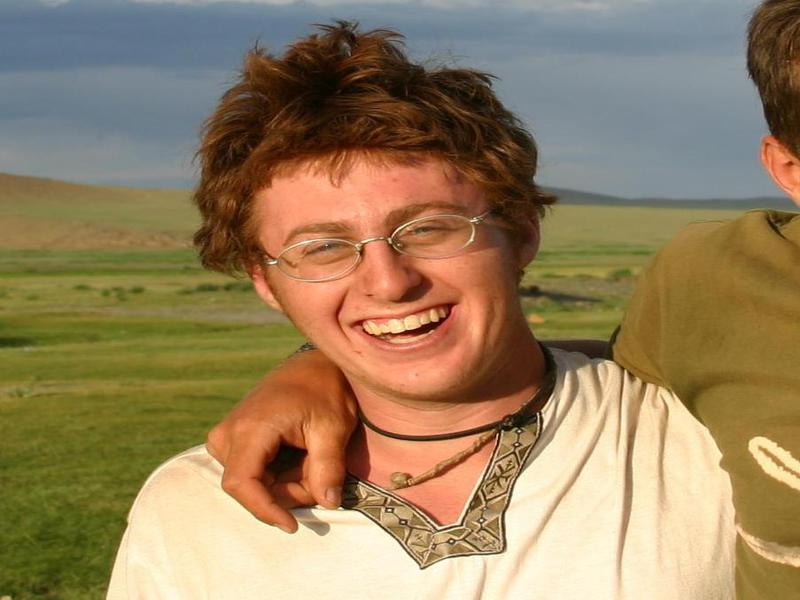person: (100, 37, 739, 600), (609, 7, 800, 598)
